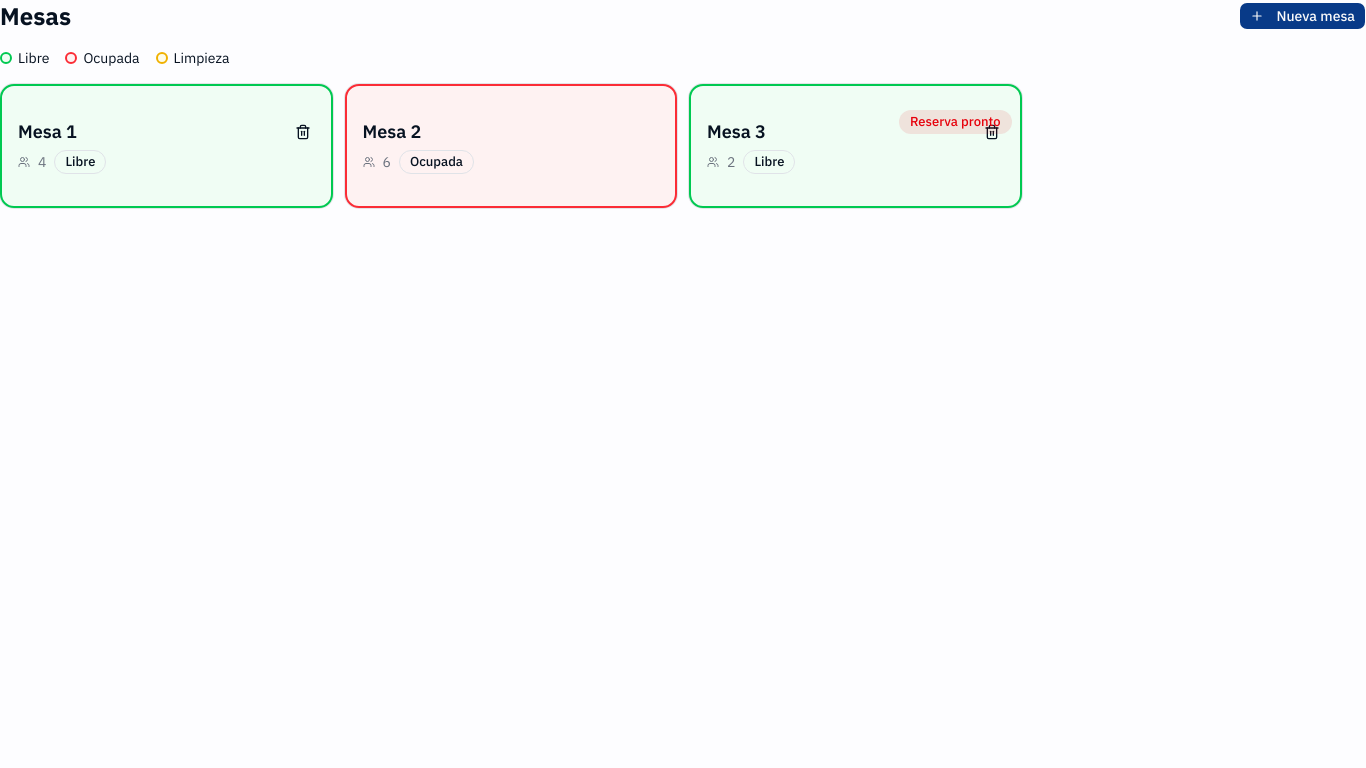
Scenario: TablesPage › opens create dialog
The width and height of the screenshot is (1366, 768).
Click the button "Nueva mesa": point(1303, 16) [1240,2,1365,30]
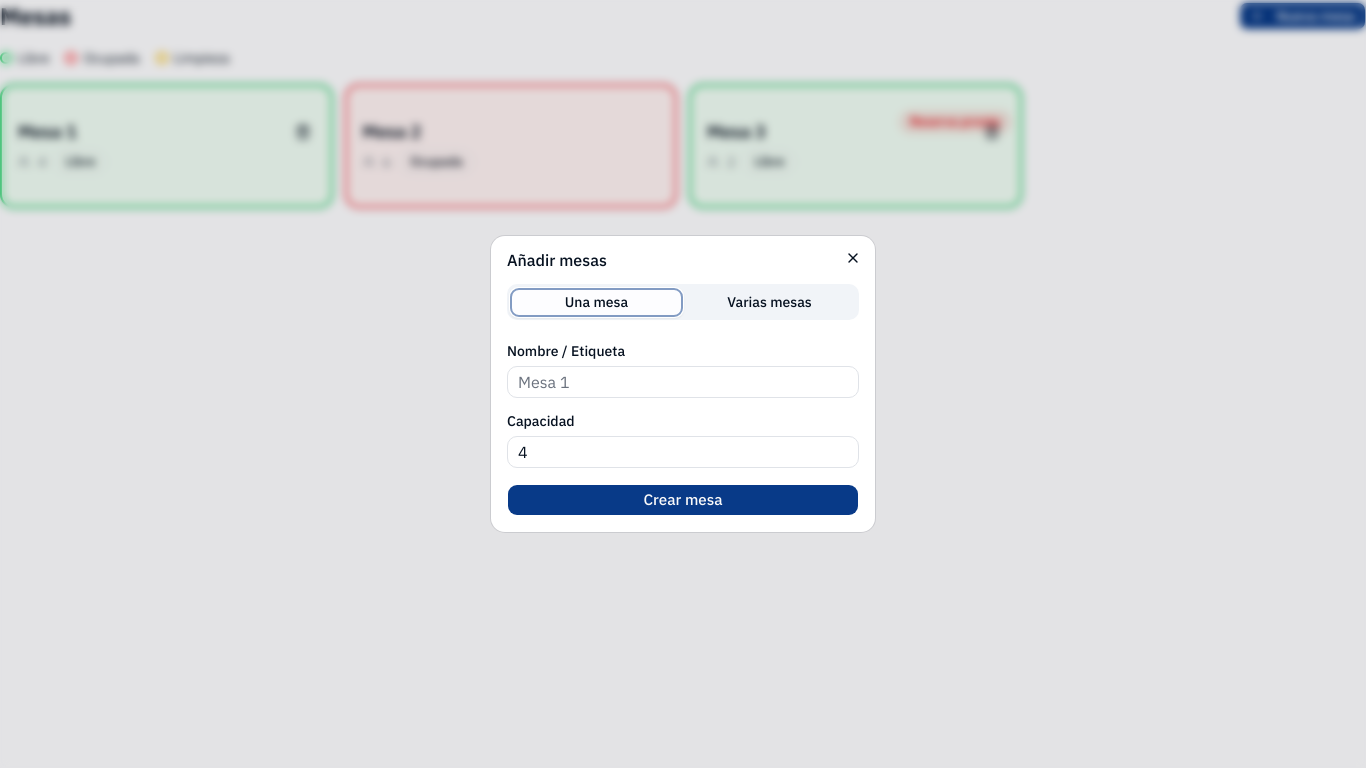
Result: the button "Crear mesa" is shown at [507,484,859,516]
